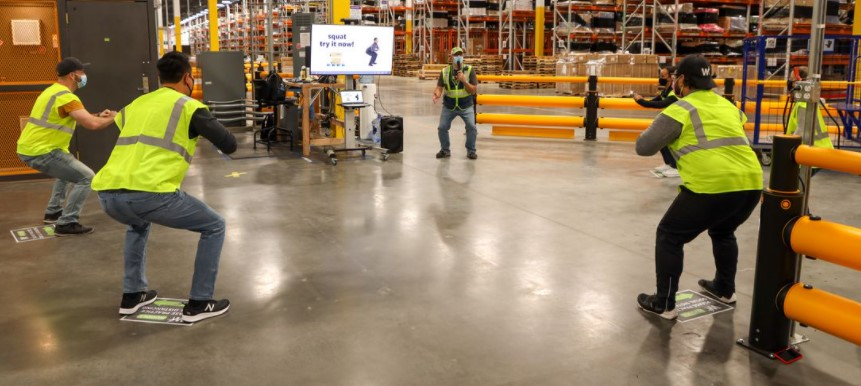worker: (94, 63, 205, 196), (662, 60, 764, 192), (18, 59, 76, 155)
